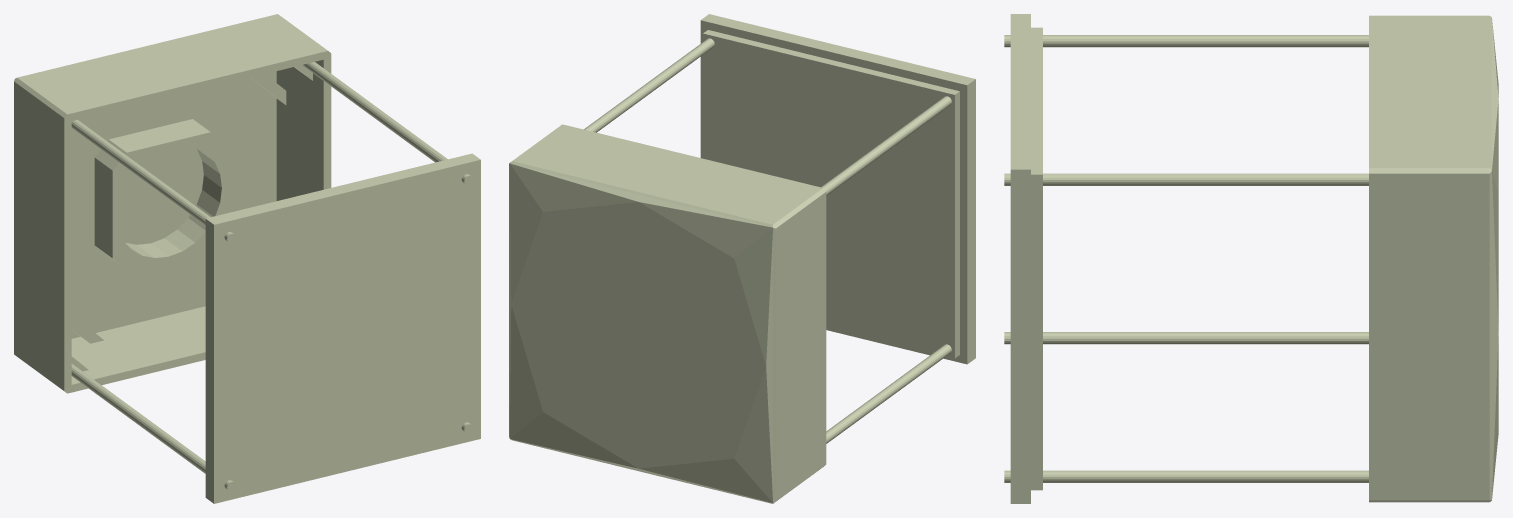
The model's file is radio-box-0001.obj.
3 renders of one model, left to right at view 1: azimuth 30°, elevation 25°; view 2: azimuth 150°, elevation 25°; view 3: azimuth 270°, elevation 25°, orthographic. The views are drawn at different scales.
Visible parts, largest first — view 1: Cube5, Cube6, Cylinder7_copy10, Cylinder7_copy8, Cylinder7; view 2: Cube5, Cube6, Cylinder7_copy8, Cylinder7_copy10, Cylinder7; view 3: Cube5, Cube6, Cylinder7_copy10, Cylinder7_copy9, Cylinder7_copy8, Cylinder7.
Part boxes in pixels (x1=…): Cube5: x1=14, y1=14, x2=331, y2=393; Cube6: x1=205, y1=153, x2=480, y2=503; Cylinder7_copy10: x1=71, y1=363, x2=235, y2=491; Cylinder7_copy8: x1=71, y1=119, x2=235, y2=243; Cylinder7: x1=302, y1=62, x2=472, y2=185; Cube5: x1=509, y1=124, x2=826, y2=503; Cube6: x1=700, y1=14, x2=975, y2=364; Cylinder7_copy8: x1=821, y1=96, x2=951, y2=195; Cylinder7_copy10: x1=826, y1=344, x2=951, y2=443; Cylinder7: x1=584, y1=38, x2=714, y2=132; Cube5: x1=1369, y1=15, x2=1498, y2=502; Cube6: x1=1010, y1=14, x2=1042, y2=503; Cylinder7_copy10: x1=1004, y1=332, x2=1368, y2=344; Cylinder7_copy9: x1=1004, y1=470, x2=1368, y2=482; Cylinder7_copy8: x1=1004, y1=35, x2=1368, y2=47; Cylinder7: x1=1004, y1=173, x2=1368, y2=185.
Size of the model in its own units: 3.6 by 3.6 by 4.82.
